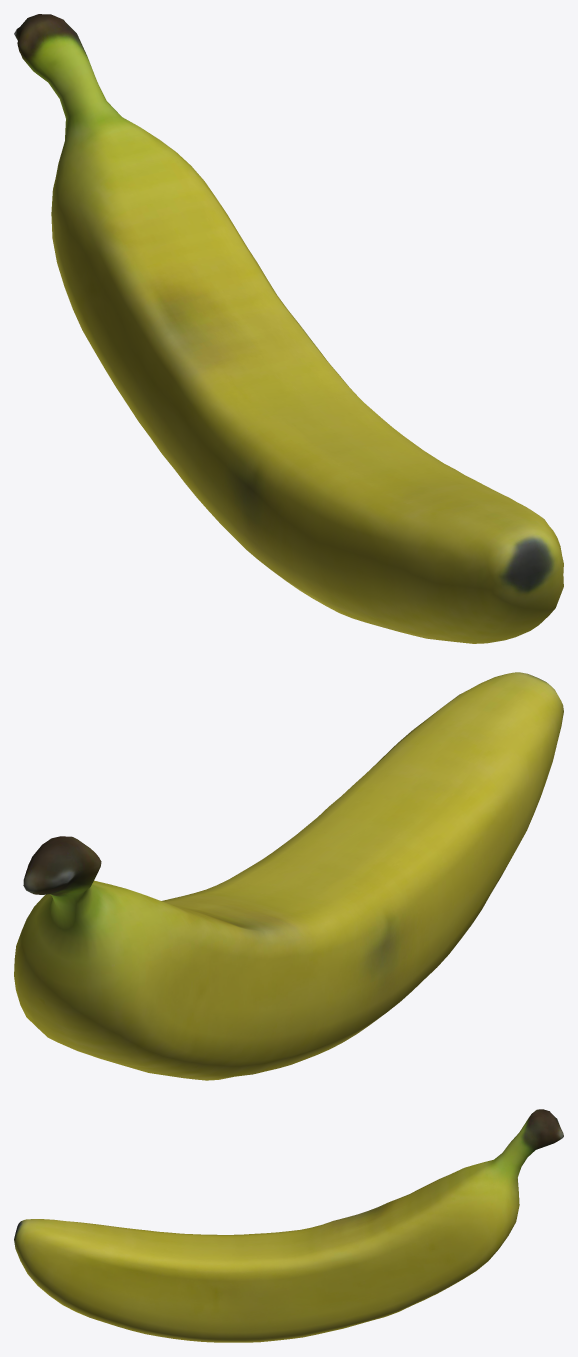
Rendered from banana.fbx.
3 renders of one model, top to bottom at view 1: azimuth 30°, elevation 25°; view 2: azimuth 150°, elevation 25°; view 3: azimuth 270°, elevation 25°, orthographic. The views are drawn at different scales.
Visible parts, largest first — view 1: mesh; view 2: mesh; view 3: mesh.
Boxes of the visible parts, x1,y1,x2,y2 form: mesh: [14, 14, 563, 643]; mesh: [14, 672, 563, 1080]; mesh: [14, 1109, 563, 1342].
Bounding box in the file's own units: 17.45 × 42.56 × 99.83.
